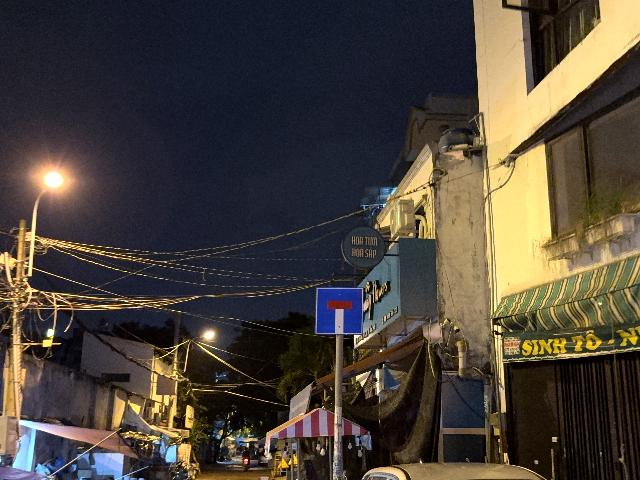duong-cut: (315, 288, 363, 334)
